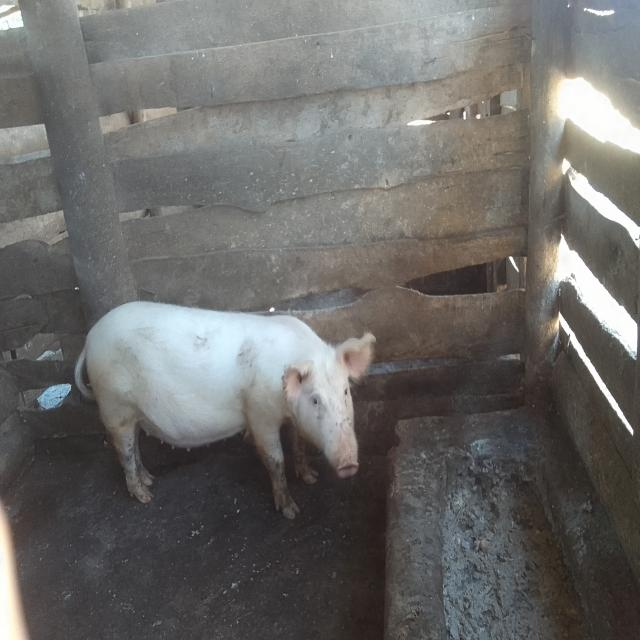pig: (49, 232, 400, 547)
